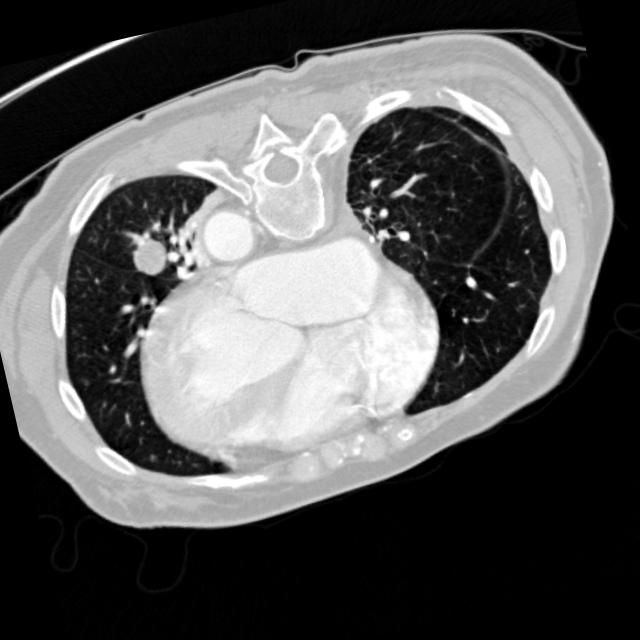nodule: (104, 210, 198, 304)
